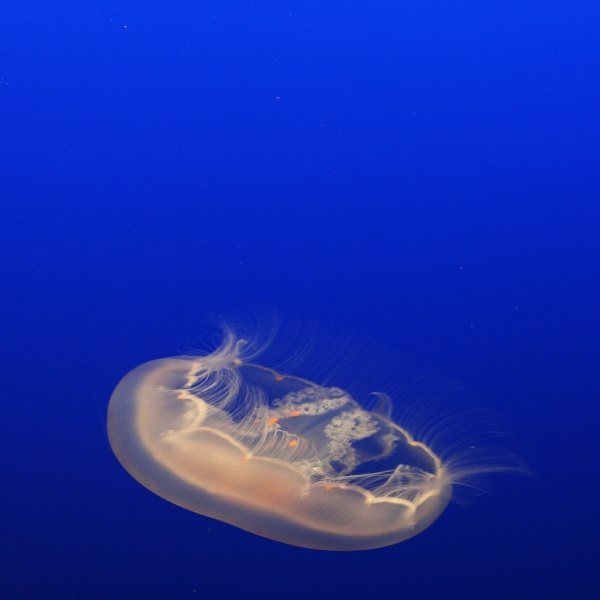Jellyfish: (102, 311, 522, 551)
